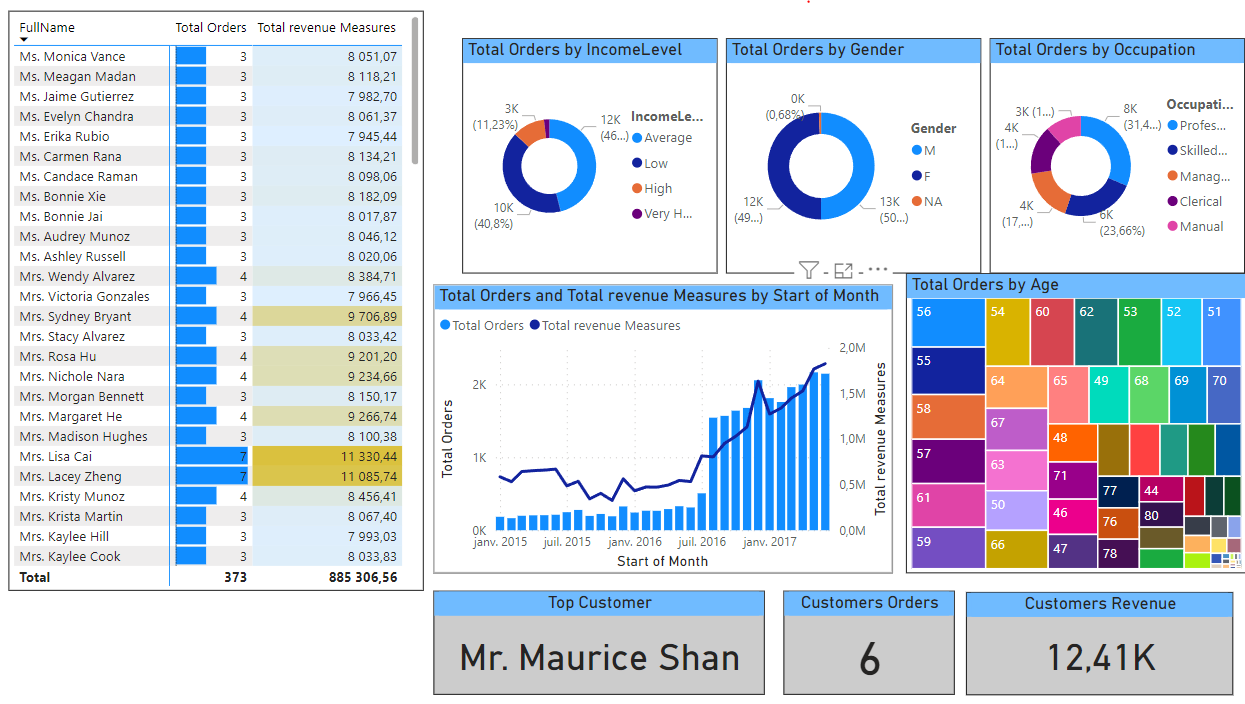

What the dashboard file says about the page in this screenshot:
{"tool":"powerbi","page":{"name":"Customer Details","canvas":[1280,720],"ordinal":2},"visuals":[{"type":"donutChart","fields":{"Category":["Customers_Lookup.IncomeLevel"],"Y":["A Measure Table.Total Orders"]},"box":[476.5,46,255.1,235.1],"z":0},{"type":"donutChart","fields":{"Category":["Customers_Lookup.Gender"],"Y":["A Measure Table.Total Orders"]},"box":[740.3,46,255.1,235.1],"z":1000},{"type":"donutChart","fields":{"Category":["Customers_Lookup.Occupation"],"Y":["A Measure Table.Total Orders"]},"box":[1004,46,255.1,235.1],"z":2000},{"type":"treemap","fields":{"Values":["A Measure Table.Total Orders"],"Group":["Customers_Lookup.Age"]},"box":[919.4,281.2,339.7,299.8],"z":3000},{"type":"lineClusteredColumnComboChart","fields":{"Y":["A Measure Table.Total Orders"],"Category":["Calendar_Lookup.Start of Month"],"Y2":["A Measure Table.Total revenue Measures"]},"box":[447.9,292.4,459.1,288.6],"z":4000},{"type":"pivotTable","fields":{"Values":["A Measure Table.Total Orders","A Measure Table.Total revenue Measures"],"Rows":["Customers_Lookup.FullName"]},"box":[22.4,18.7,415.6,579.8],"z":5000},{"type":"card","title":"Top Customer","fields":{"Values":["Customers_Lookup.Full Name_CC"]},"box":[447.6,599.3,331.6,104.1],"z":6000},{"type":"card","title":"Customers Orders","fields":{"Values":["A Measure Table.Total Orders"]},"box":[797,599.3,171,104.1],"z":7000},{"type":"card","title":"Customers Revenue","fields":{"Values":["A Measure Table.Total revenue Measures"]},"box":[980.4,599.7,267.5,102.9],"z":8000}]}

Visuals, with their boxes in screenshot pixels (x1, y1, x2, y2), scaled from the page's 1280x720 canvas onto the 1245x704 screenshot:
donutChart - Customers_Lookup.IncomeLevel x A Measure Table.Total Orders: locate(463, 45, 712, 275)
donutChart - Customers_Lookup.Gender x A Measure Table.Total Orders: locate(720, 45, 968, 275)
donutChart - Customers_Lookup.Occupation x A Measure Table.Total Orders: locate(977, 45, 1225, 275)
treemap - A Measure Table.Total Orders x Customers_Lookup.Age: locate(894, 275, 1225, 568)
lineClusteredColumnComboChart - A Measure Table.Total Orders x Calendar_Lookup.Start of Month: locate(436, 286, 882, 568)
pivotTable - A Measure Table.Total Orders x A Measure Table.Total revenue Measures: locate(22, 18, 426, 585)
"Top Customer" card: locate(435, 586, 758, 688)
"Customers Orders" card: locate(775, 586, 942, 688)
"Customers Revenue" card: locate(954, 586, 1214, 687)
